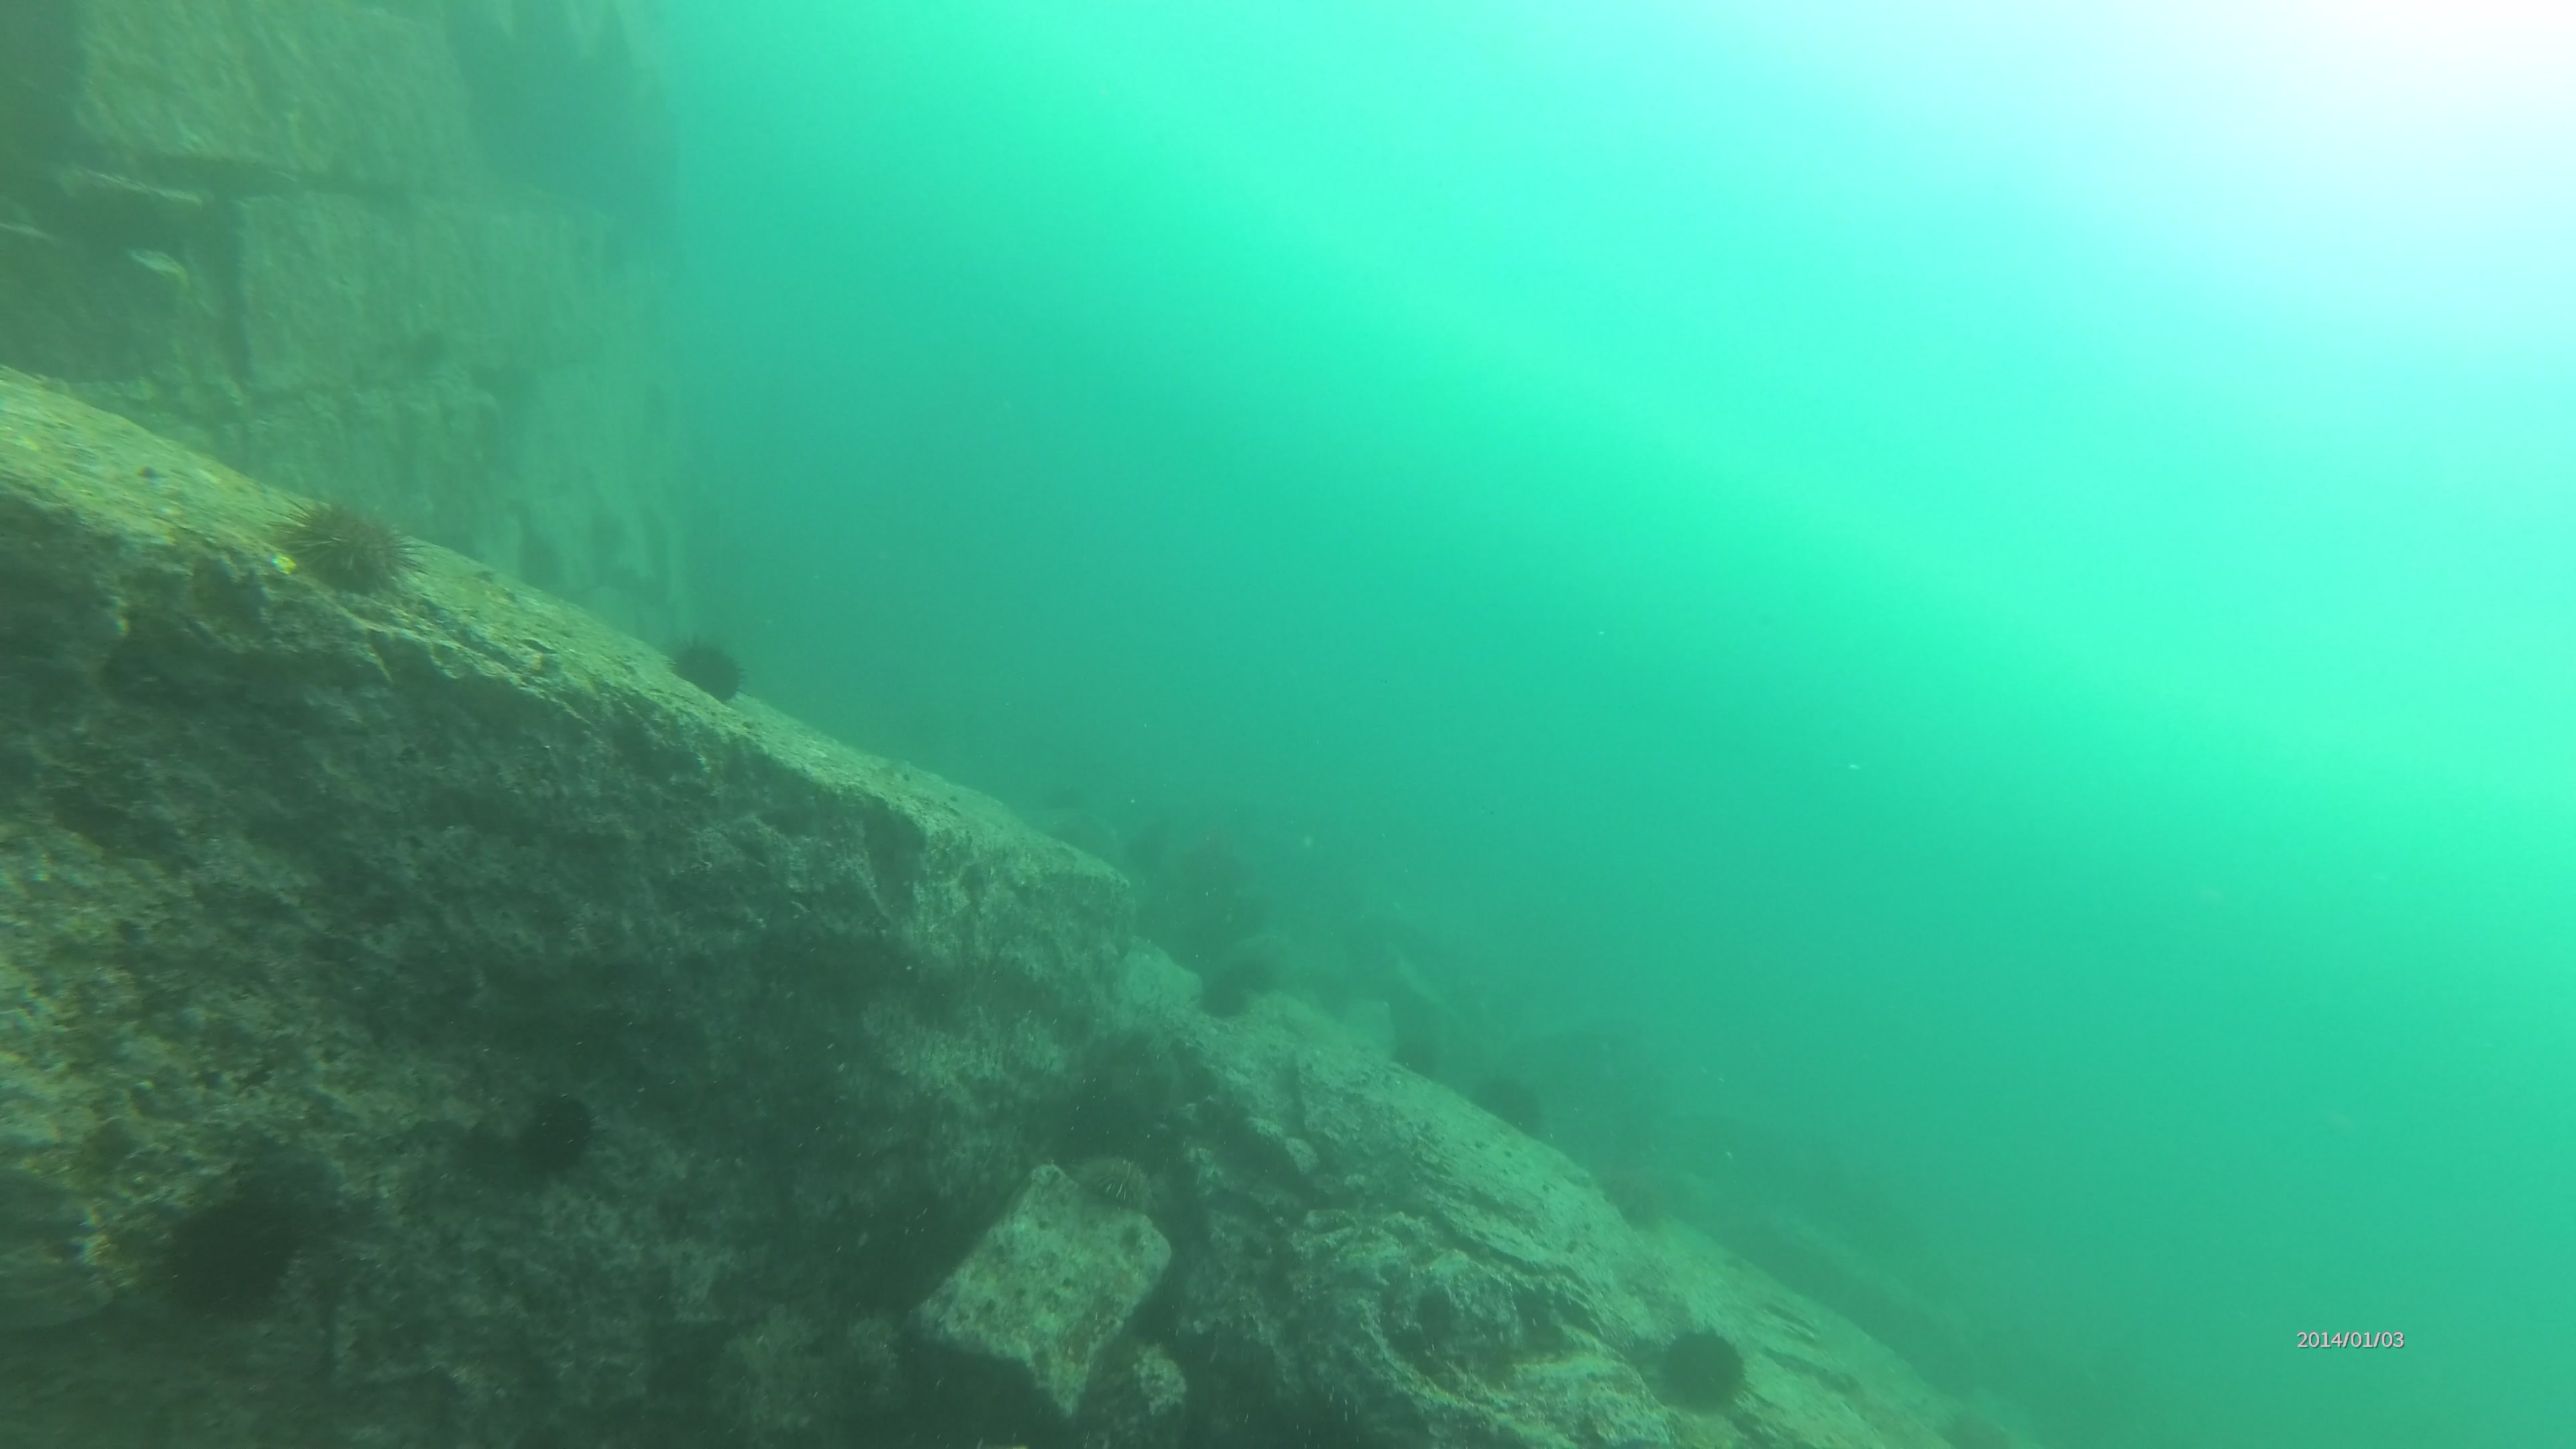echinus: (258, 487, 441, 607), (149, 1191, 313, 1322), (658, 619, 759, 711), (1663, 1313, 1746, 1410)
